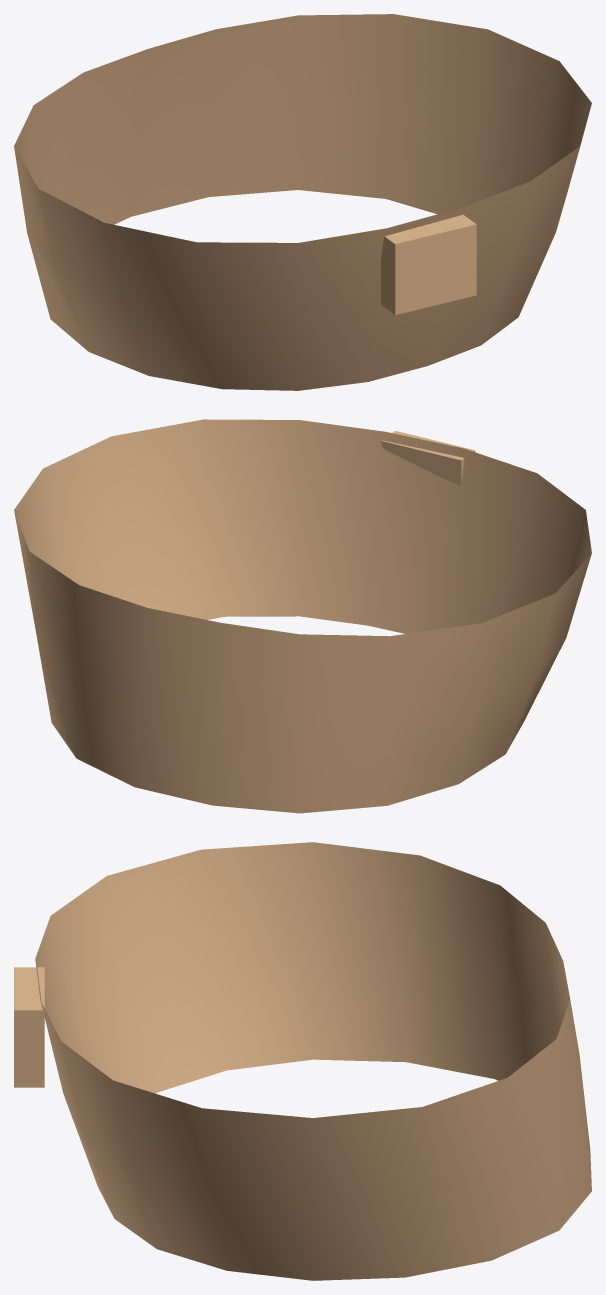
Rendered from palladium_armor_belt.glb.
3 renders of one model, top to bottom at view 1: azimuth 30°, elevation 25°; view 2: azimuth 150°, elevation 25°; view 3: azimuth 270°, elevation 25°, orthographic. The views are drawn at different scales.
Visible parts, largest first — view 1: palladium_armor_belt; view 2: palladium_armor_belt; view 3: palladium_armor_belt.
Part boxes in pixels (x1=…): palladium_armor_belt: x1=14, y1=14, x2=591, y2=390; palladium_armor_belt: x1=14, y1=419, x2=591, y2=813; palladium_armor_belt: x1=14, y1=842, x2=591, y2=1280.
Bounding box in the file's own units: 0.3841 × 0.1238 × 0.34.
